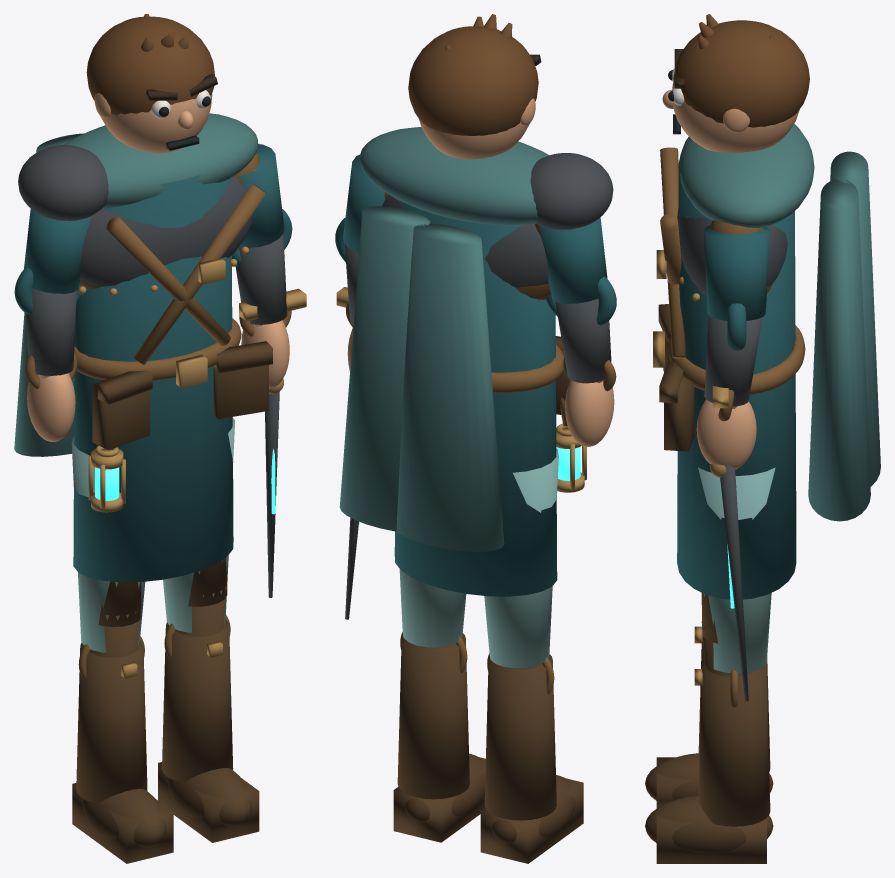
File: 3D模型 char_swordsman.glb
3 views of the same model, side by side, from view 1: azimuth 30°, elevation 25°; view 2: azimuth 150°, elevation 25°; view 3: azimuth 270°, elevation 25° (orthographic).
Parts seen in each view (by area): view 1: char_swordsman_tunic, char_swordsman_boot_L, char_swordsman_boot_R, char_swordsman_hair, char_swordsman_mantle, char_swordsman_chestplate, char_swordsman_pauldron, char_swordsman_sleeve_L, char_swordsman_bracer_L, char_swordsman_bracer_R, char_swordsman_head, char_swordsman_strap_R (+26 smaller); view 2: char_swordsman_cape0, char_swordsman_tunic, char_swordsman_cape1, char_swordsman_mantle, char_swordsman_hair, char_swordsman_boot_L, char_swordsman_boot_R, char_swordsman_pant_L, char_swordsman_pauldron, char_swordsman_sleeve_L, char_swordsman_pant_R, char_swordsman_bracer_L (+13 smaller); view 3: char_swordsman_tunic, char_swordsman_cape1, char_swordsman_hair, char_swordsman_boot_R, char_swordsman_mantle, char_swordsman_pant_R, char_swordsman_sleeve_R, char_swordsman_cape0, char_swordsman_bracer_R, char_swordsman_bootfoot_R, char_swordsman_hand_R, char_swordsman_head (+13 smaller).
Part boxes in pixels (x1,y1,x2,y2): char_swordsman_tunic: (73,175,233,582); char_swordsman_boot_L: (76,641,147,803); char_swordsman_boot_R: (162,620,233,782); char_swordsman_hair: (86,16,214,115); char_swordsman_mantle: (64,113,258,208); char_swordsman_chestplate: (80,175,252,286); char_swordsman_pauldron: (18,145,108,220); char_swordsman_sleeve_L: (24,209,91,293); char_swordsman_bracer_L: (25,288,76,375); char_swordsman_bracer_R: (235,234,287,324); char_swordsman_head: (100,94,212,153); char_swordsman_strap_R: (133,183,266,364); char_swordsman_cape0: (396,223,504,551); char_swordsman_tunic: (394,201,557,596); char_swordsman_cape1: (339,206,430,531); char_swordsman_mantle: (359,127,548,225); char_swordsman_hair: (408,26,538,135); char_swordsman_boot_L: (484,654,556,820); char_swordsman_boot_R: (397,633,469,799); char_swordsman_pant_L: (484,448,558,668); char_swordsman_pauldron: (530,153,613,229); char_swordsman_sleeve_L: (538,217,607,303); char_swordsman_pant_R: (399,569,466,647); char_swordsman_bracer_L: (555,298,611,383); char_swordsman_tunic: (677,153,796,599); char_swordsman_cape1: (808,179,870,521); char_swordsman_hair: (673,20,809,127); char_swordsman_boot_R: (698,660,770,826); char_swordsman_mantle: (679,124,814,227); char_swordsman_pant_R: (698,467,775,673); char_swordsman_sleeve_R: (703,225,769,320); char_swordsman_cape0: (830,151,880,486); char_swordsman_bracer_R: (704,315,762,406); char_swordsman_bootfoot_R: (645,795,773,853); char_swordsman_hand_R: (696,399,756,469); char_swordsman_head: (672,81,799,152).
Bounding box in the file's own units: 0.651 × 1.78 × 0.4705.
